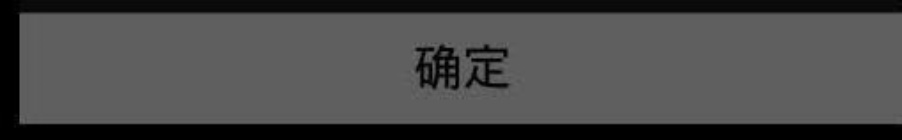Button: (1, 1, 901, 139)
